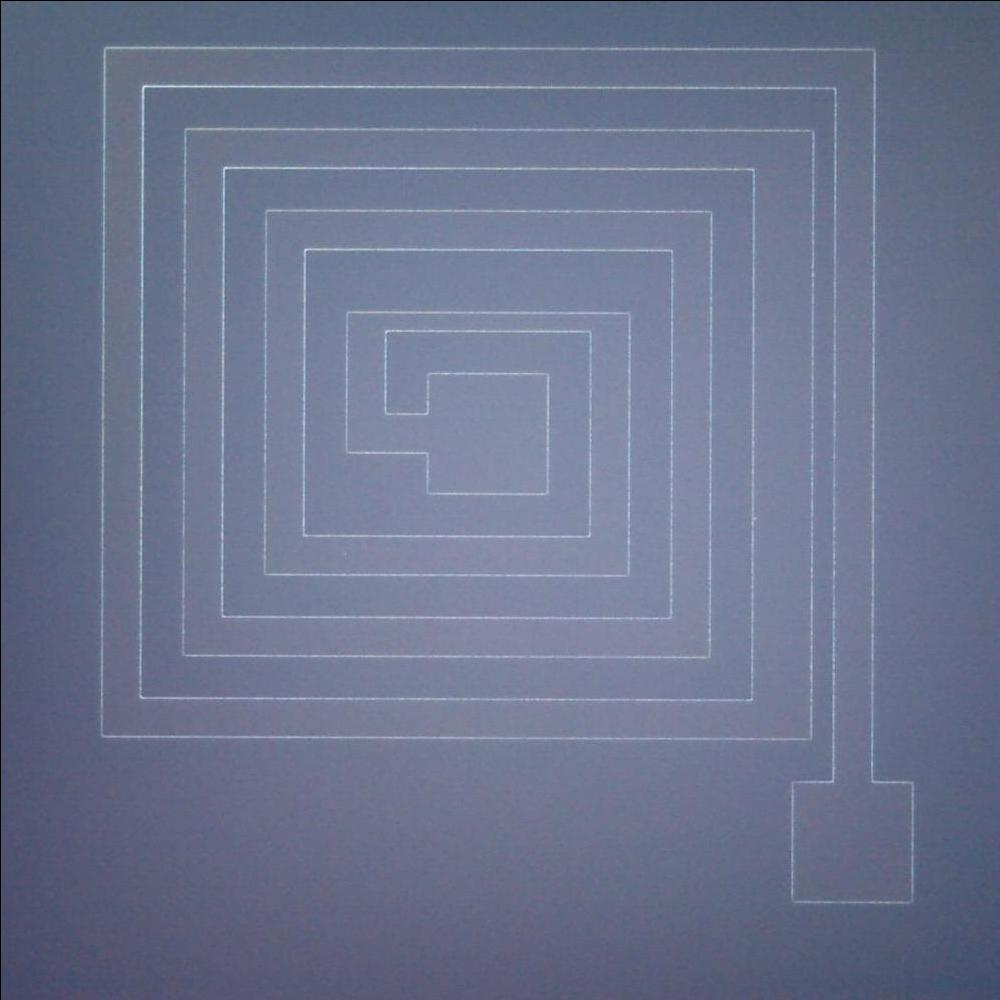fat circuit: (738, 107, 818, 753)
thin circuit: (336, 293, 636, 347)
